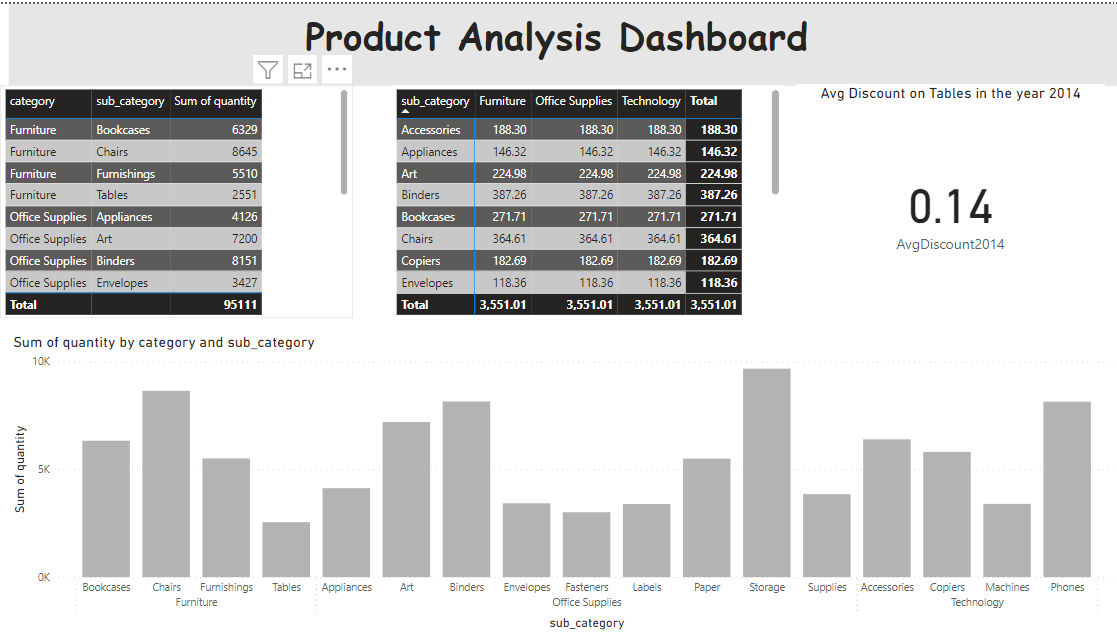

What the dashboard file says about the page in this screenshot:
{"tool":"powerbi","page":{"name":"Products Analysis Dashboard","canvas":[1280,720],"ordinal":1},"visuals":[{"type":"textbox","box":[9.6,0,1271,93.2],"z":0},{"type":"clusteredColumnChart","fields":{"Category":["SuperStoreOrders (2).category","SuperStoreOrders (2).sub_category"],"Y":["Sum(SuperStoreOrders (2).quantity)"]},"box":[10,375.7,1270,344.3],"z":1000},{"type":"tableEx","fields":{"Values":["SuperStoreOrders (2).category","SuperStoreOrders (2).sub_category","Sum(SuperStoreOrders (2).quantity)"]},"box":[0,92.9,402.9,267.1],"z":2000},{"type":"card","title":"Avg Discount on Tables in the year 2014","fields":{"Values":["SuperStoreOrders (2).AvgDiscount2014"]},"box":[910,91.4,352.9,268.6],"z":3000},{"type":"pivotTable","fields":{"Values":["Sum(SuperStoreOrders (2).discount)"],"Rows":["SuperStoreOrders (2).sub_category"],"Columns":["SuperStoreOrders.category"]},"box":[448.6,92.9,447.1,267.1],"z":4000}]}

Visuals, with their boxes on the page's 1280x720 design canvas (x1, y1, x2, y2). These are canvas units, not pixel positions in the 1117x633 screenshot, which may show the page scaled, cropped or inside an application window:
textbox: [10,0,1281,93]
clusteredColumnChart - SuperStoreOrders (2).category x SuperStoreOrders (2).sub_category: [10,376,1280,720]
tableEx - SuperStoreOrders (2).category x SuperStoreOrders (2).sub_category: [0,93,403,360]
"Avg Discount on Tables in the year 2014" card: [910,91,1263,360]
pivotTable - Sum(SuperStoreOrders (2).discount) x SuperStoreOrders (2).sub_category: [449,93,896,360]
